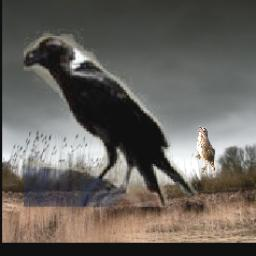Crow: (24, 28, 200, 207)
Sparrow: (196, 127, 216, 174)
